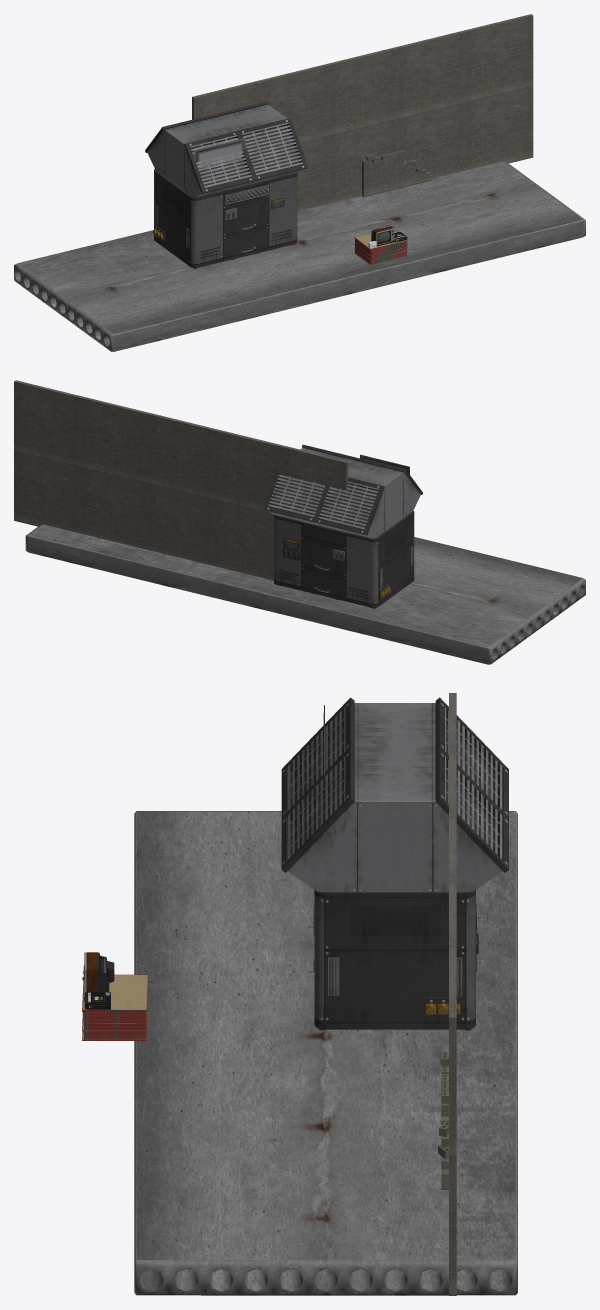
The model's file is TitleMap.gltf.
The picture shows the model from 3 angles, top to bottom: view 1: azimuth 30°, elevation 25°; view 2: azimuth 150°, elevation 25°; view 3: azimuth 270°, elevation 25°; orthographic projection. The views are drawn at different scales.
Parts seen in each view (by area): view 1: SM_Building_Pieces_ConcreteChunk, SM_AC, SM_BW_BrickWall4m4, SM_BW_BrickWall4m9, SM_BW_BrickWall4m5, SM_BW_BrickWall4m8, SM_BW_BrickWall4m3, SM_BW_BrickWall4m6, SM_BW_BrickWall4m2, SM_BW_BrickWall4mHalf2, SM_BW_BrickWall4m, SM_BW_BrickWall4m7 (+2 smaller); view 2: SM_Building_Pieces_ConcreteChunk, SM_AC, SM_BW_BrickWall4m9, SM_BW_BrickWall4m5, SM_BW_BrickWall4m4, SM_BW_BrickWall4m8, SM_BW_BrickWall4m3, SM_BW_BrickWall4m2, SM_BW_BrickWall4m6, SM_BW_BrickWall4m, SM_BW_BrickWall4m7; view 3: SM_Building_Pieces_ConcreteChunk, SM_AC, SM_Exterior_1__Drywall, SM_BW_BrickWall4m9, SM_BW_BrickWall4mHalf2, SM_BW_BrickWall4m8, TV.
Part boxes in pixels (box(x1,y1,x2,y2)): SM_Building_Pieces_ConcreteChunk: box(14, 161, 585, 351); SM_AC: box(145, 101, 308, 268); SM_BW_BrickWall4m4: box(396, 30, 465, 119); SM_BW_BrickWall4m9: box(464, 14, 533, 102); SM_BW_BrickWall4m5: box(328, 47, 397, 135); SM_BW_BrickWall4m8: box(465, 86, 533, 170); SM_BW_BrickWall4m3: box(397, 103, 465, 178); SM_BW_BrickWall4m6: box(260, 63, 329, 143); SM_BW_BrickWall4m2: box(329, 119, 397, 203); SM_BW_BrickWall4mHalf2: box(362, 150, 431, 196); SM_BW_BrickWall4m: box(297, 136, 329, 211); SM_BW_BrickWall4m7: box(192, 80, 261, 119); SM_Building_Pieces_ConcreteChunk: box(25, 524, 585, 664); SM_AC: box(263, 444, 422, 608); SM_BW_BrickWall4m9: box(14, 380, 81, 467); SM_BW_BrickWall4m5: box(147, 412, 214, 499); SM_BW_BrickWall4m4: box(80, 396, 148, 483); SM_BW_BrickWall4m8: box(14, 451, 80, 533); SM_BW_BrickWall4m3: box(80, 467, 146, 549); SM_BW_BrickWall4m2: box(147, 483, 213, 565); SM_BW_BrickWall4m6: box(213, 429, 281, 514); SM_BW_BrickWall4m: box(213, 500, 273, 580); SM_BW_BrickWall4m7: box(280, 445, 348, 496); SM_Building_Pieces_ConcreteChunk: box(134, 811, 517, 1295); SM_AC: box(281, 697, 508, 1030); SM_Exterior_1__Drywall: box(82, 974, 148, 1040); SM_BW_BrickWall4m9: box(449, 952, 456, 1156); SM_BW_BrickWall4mHalf2: box(438, 1051, 448, 1189); SM_BW_BrickWall4m8: box(449, 1156, 456, 1295); TV: box(82, 952, 114, 994).
Size of the model in its own units: 29.6 by 8.85 by 11.36.
Materials: 9 (9 with a texture image).
